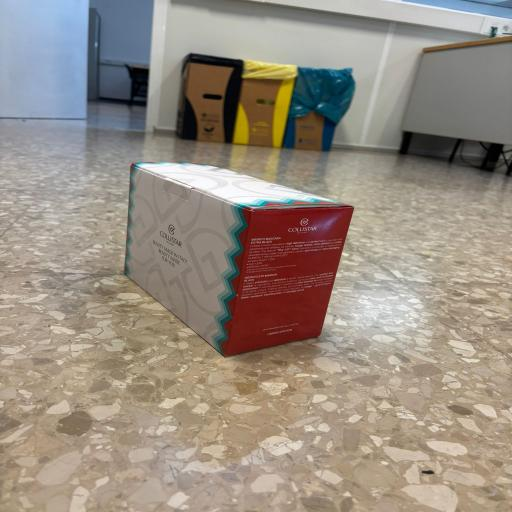caja_1: (125, 163, 352, 355)
